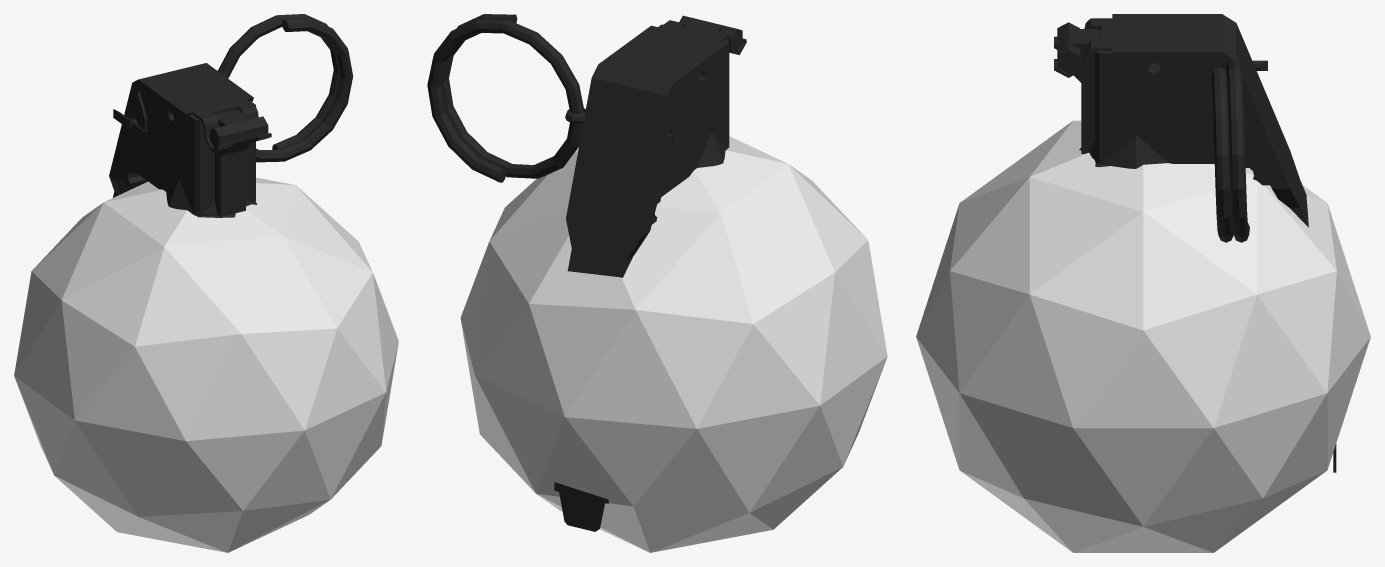
The model's file is Grenade.glb.
The picture shows the model from 3 angles, left to right: view 1: azimuth 30°, elevation 25°; view 2: azimuth 150°, elevation 25°; view 3: azimuth 270°, elevation 25°; orthographic projection. The views are drawn at different scales.
Visible parts, largest first — view 1: Icosphere, model_0; view 2: Icosphere, model_0; view 3: Icosphere, model_0.
Boxes of the visible parts, left/top/right/bottom form: Icosphere: left=14, top=177, right=398, bottom=552; model_0: left=109, top=14, right=353, bottom=217; Icosphere: left=460, top=136, right=887, bottom=552; model_0: left=427, top=14, right=746, bottom=531; Icosphere: left=916, top=120, right=1370, bottom=552; model_0: left=1054, top=14, right=1336, bottom=472.
Size of the model in its own units: 0.3218 by 0.4178 by 0.32.
1 material, 1 textured.
